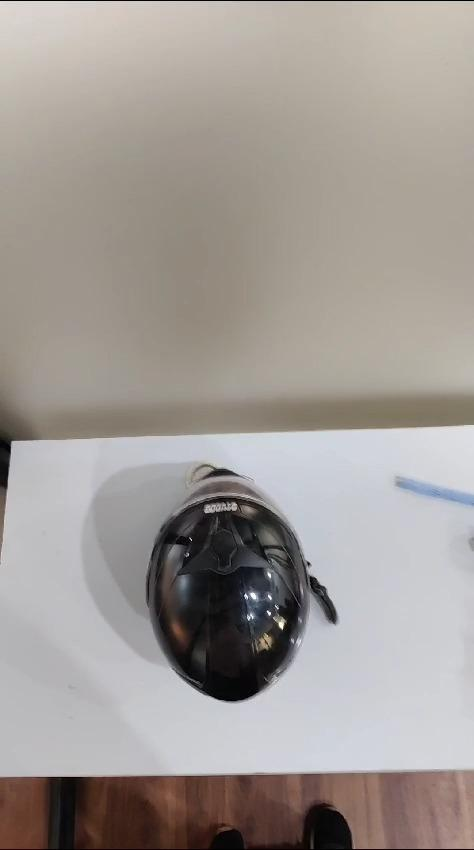Helmet: (147, 465, 336, 701)
